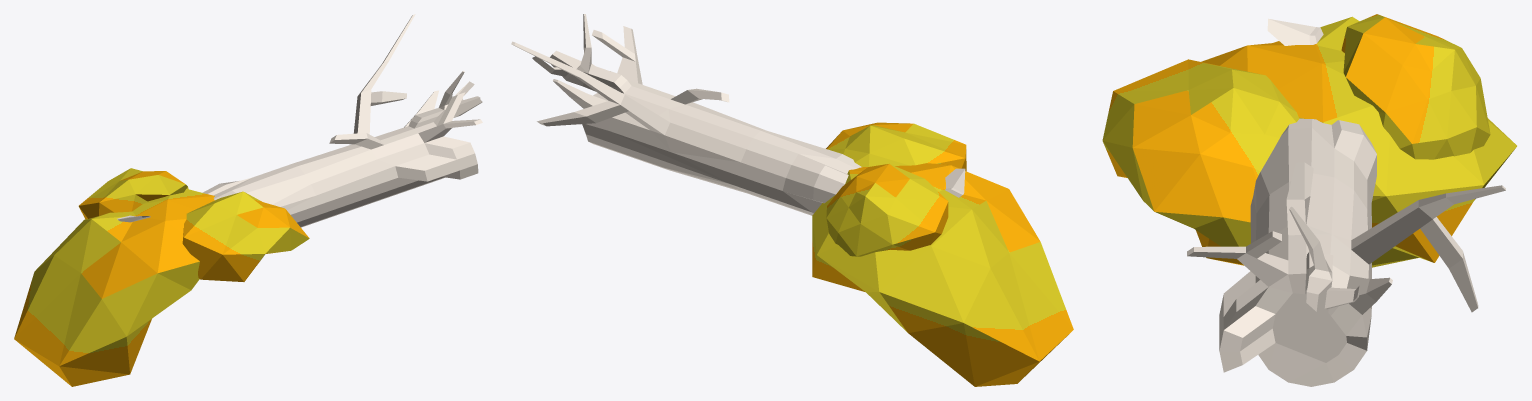
The model's file is m_old_tree.glb.
The picture shows the model from 3 angles, left to right: view 1: azimuth 30°, elevation 25°; view 2: azimuth 150°, elevation 25°; view 3: azimuth 270°, elevation 25°; orthographic projection. The views are drawn at different scales.
Visible parts, largest first — view 1: M_OldTree; view 2: M_OldTree; view 3: M_OldTree.
Part boxes in pixels (<box>): M_OldTree: <box>14,14,482,386</box>; M_OldTree: <box>511,14,1073,386</box>; M_OldTree: <box>1102,14,1516,386</box>.
Size of the model in its own units: 8.15 by 4.14 by 3.41.
Materials: 1 (1 with a texture image).
